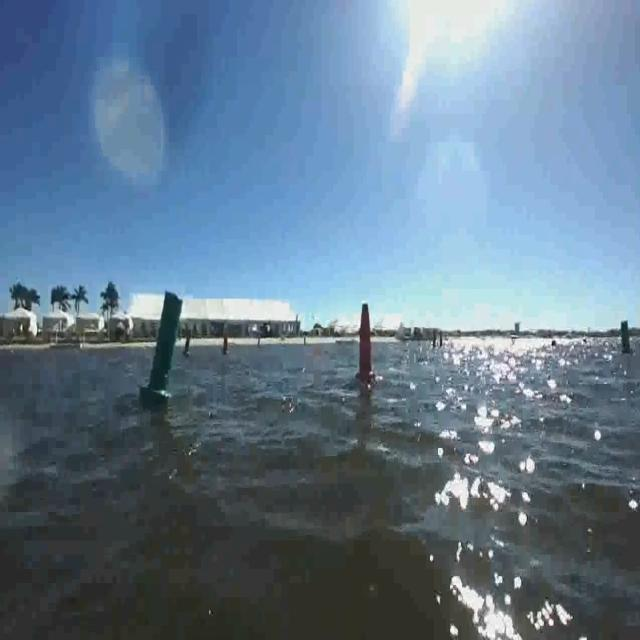green-column-buoy: (140, 290, 183, 404), (618, 320, 634, 357), (182, 331, 192, 357)
red-column-buoy: (354, 301, 376, 386), (221, 335, 230, 357)
